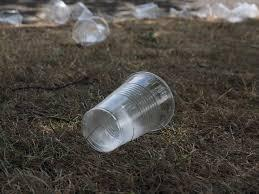Plastic cup: (73, 69, 175, 154), (63, 14, 110, 46)
